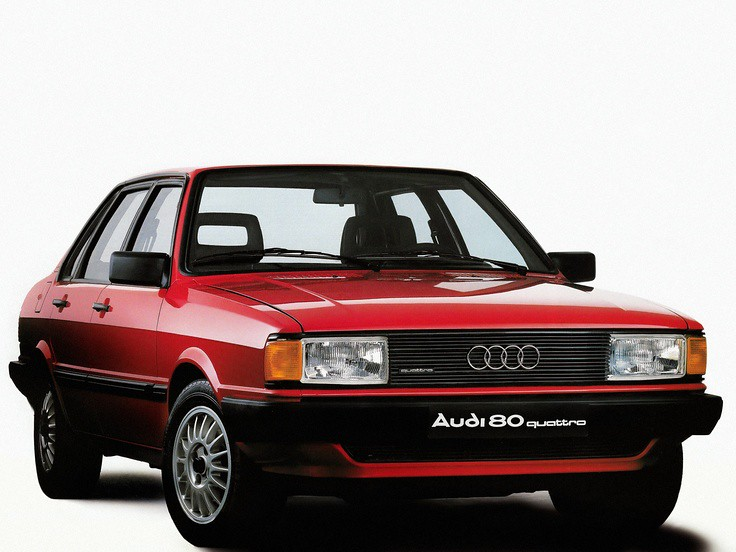car: (11, 160, 727, 540)
